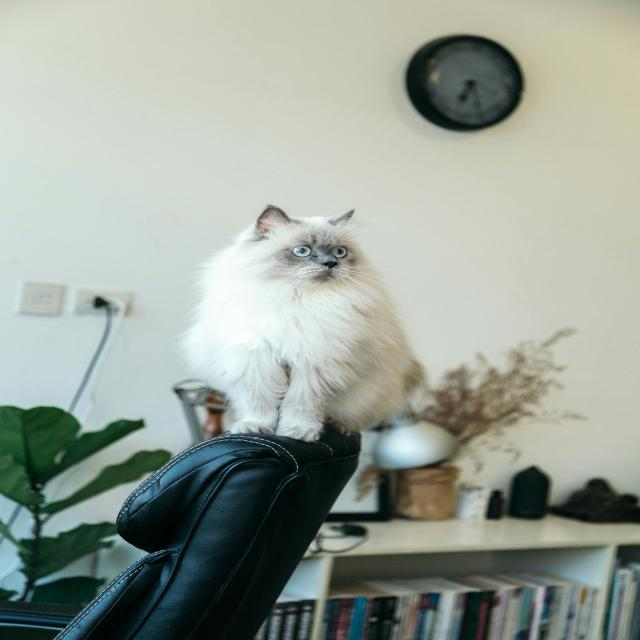Cat: (175, 203, 436, 442)
